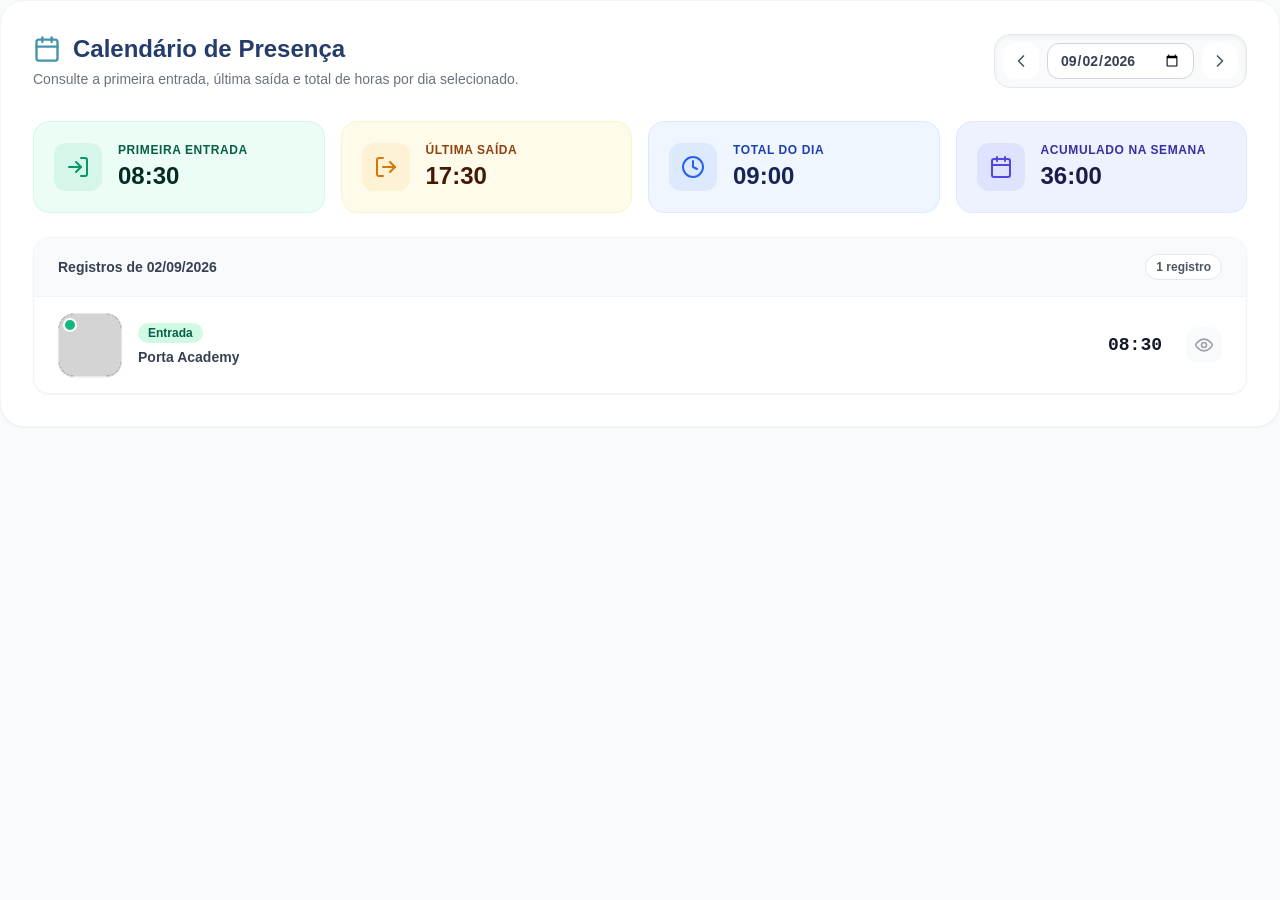
Test: CalendarioPresencaAluno component › abre modal de detalhes do ponto com foto e informações ao clicar em um registro
expect the text "Porta Academy" is shown: met, box [138,347,239,367]
# Clica no registro de ponto
Click the button titled "Clique para visualizar os detalhes e a foto do registro" at x=90, y=345, box [34,297,1246,393]
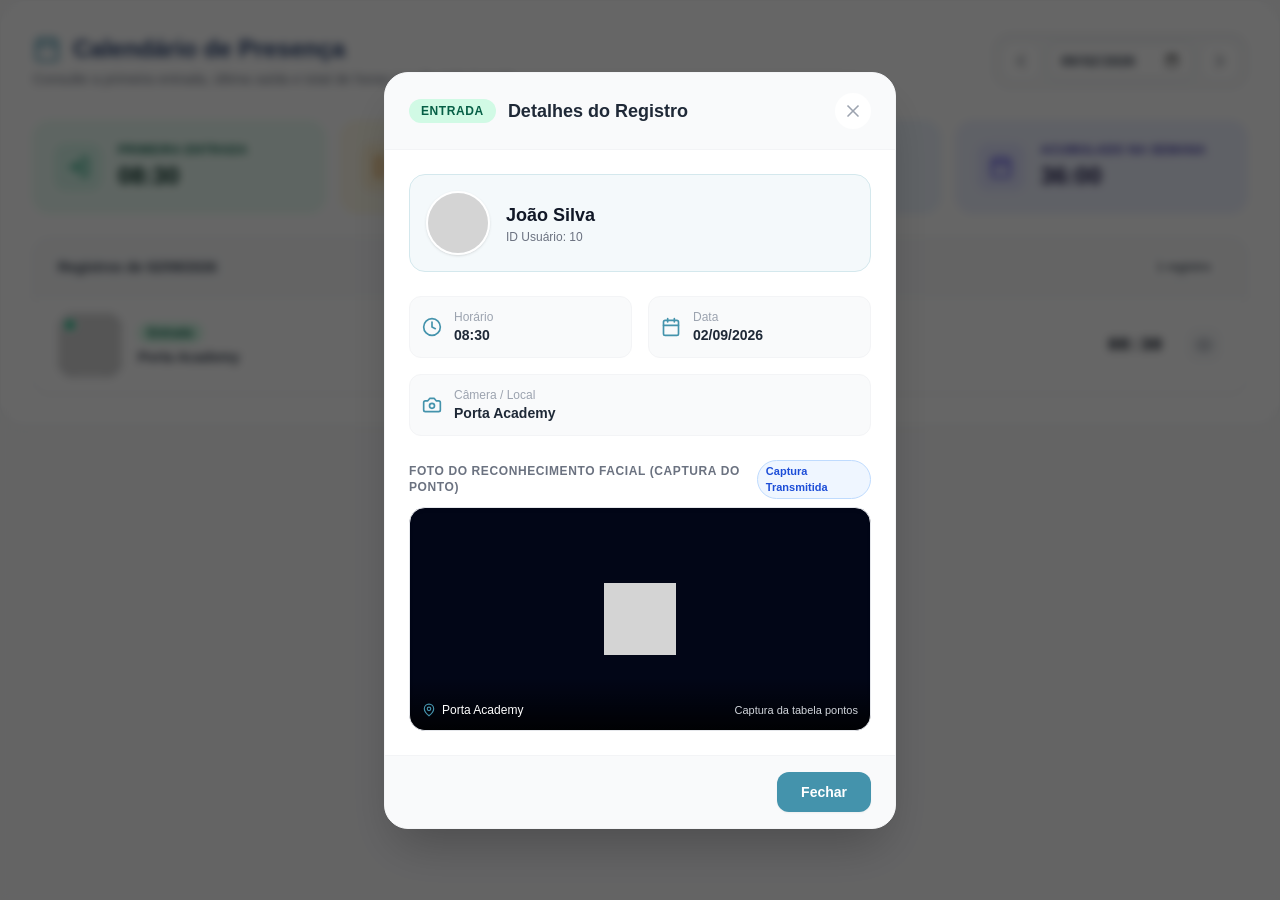
expect the dialog is shown: met
expect the heading "Detalhes do Registro" is shown: met, box [508,96,688,124]
expect the heading "João Silva" is shown: met, box [506,200,595,228]
# Fecha o modal
Click the button named "Fechar" at x=853, y=110, box [835,92,871,128]
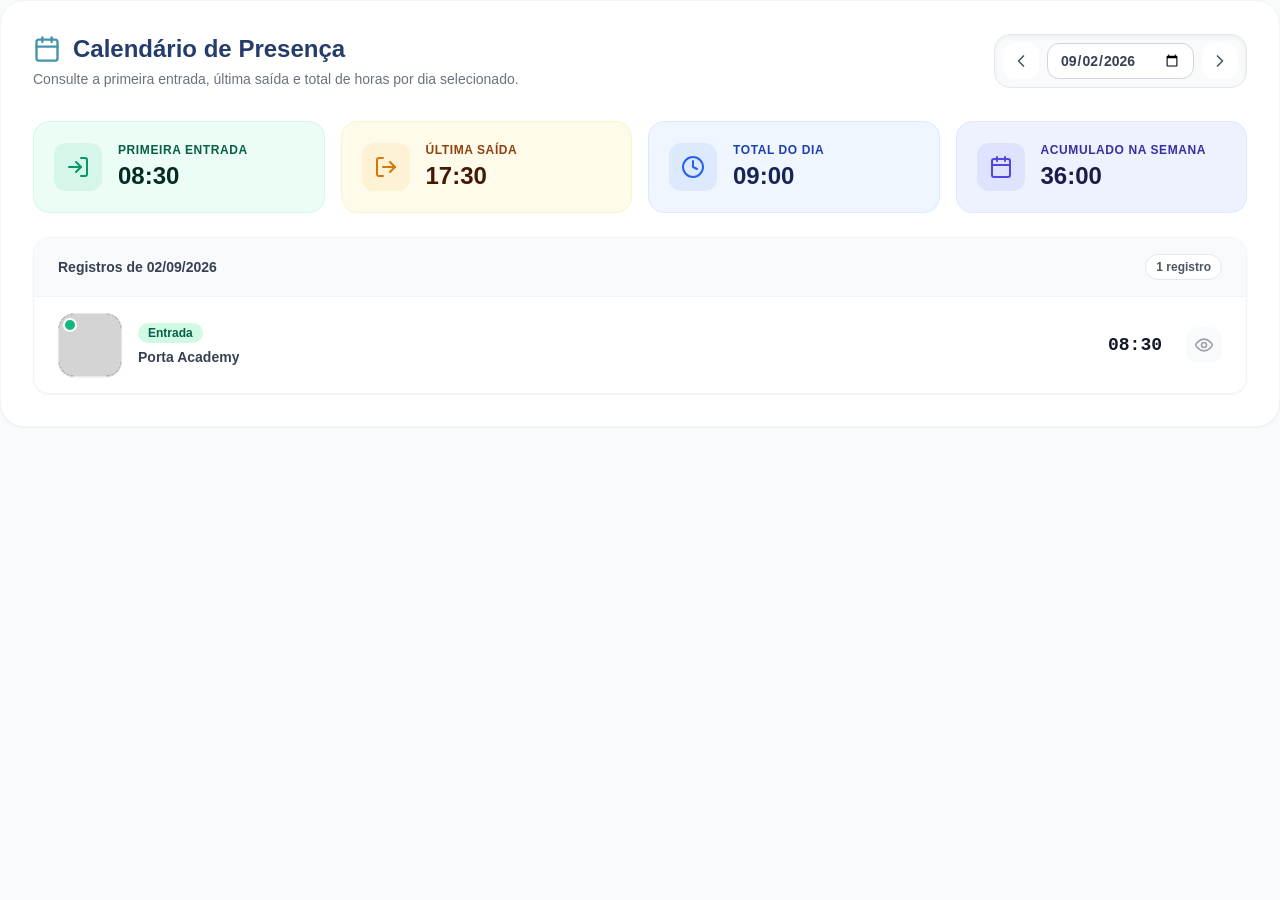
expect the dialog is gone: met
